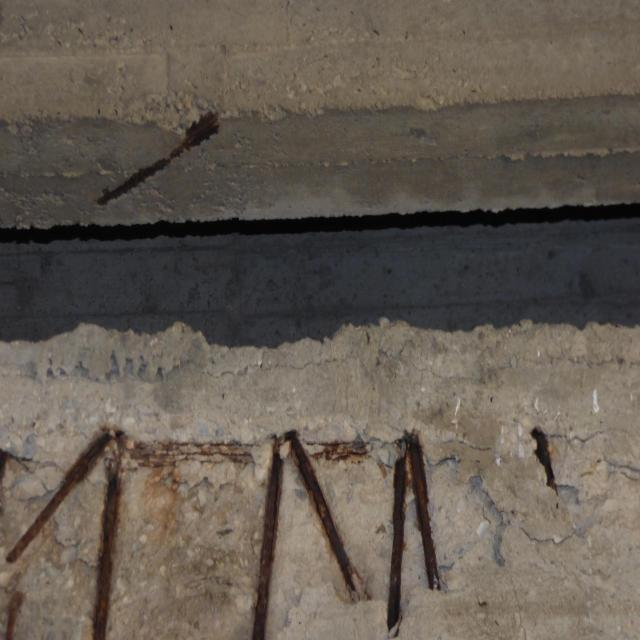Rebar: (0, 421, 605, 640), (94, 102, 224, 210)
horizontal crack: (189, 347, 640, 385), (553, 426, 640, 444)
